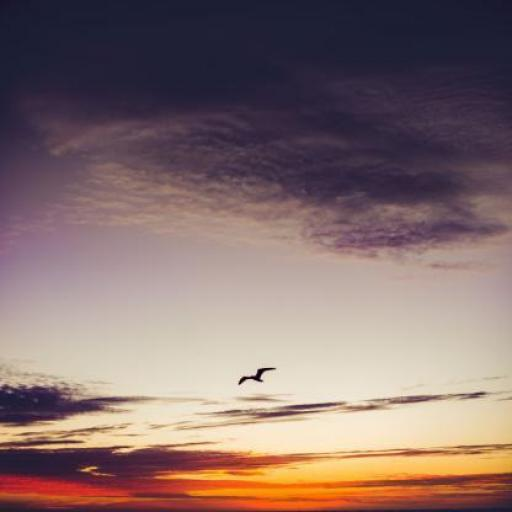bird: (239, 367, 276, 385)
